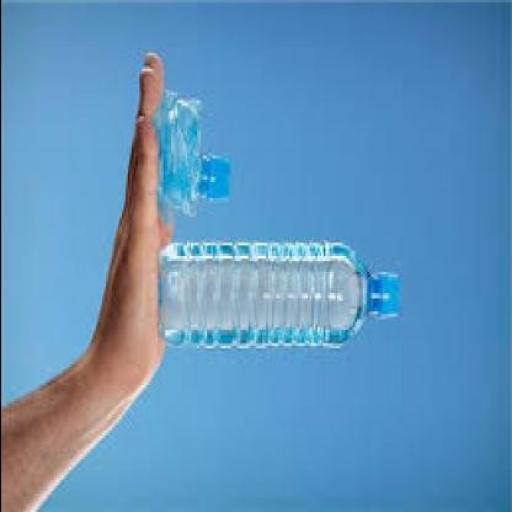plastic: (156, 242, 404, 351), (152, 92, 236, 227), (376, 272, 402, 325), (206, 158, 233, 206)
